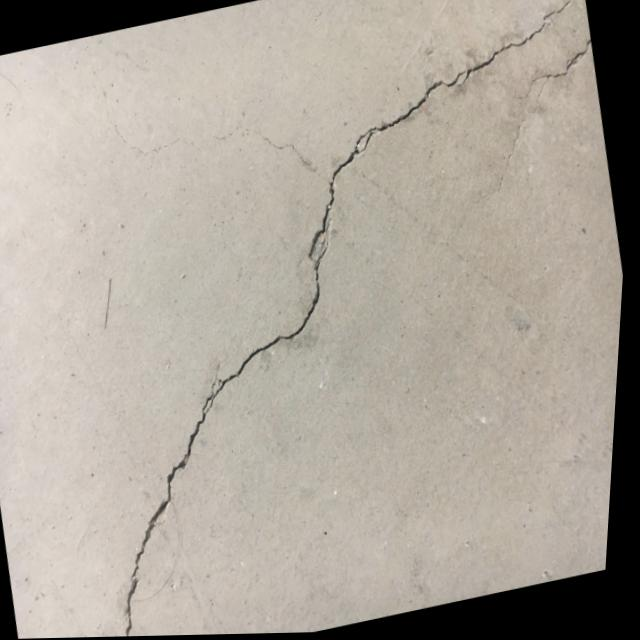Crack: (52, 410, 258, 639), (278, 66, 497, 265), (182, 249, 359, 426), (442, 0, 596, 93), (509, 35, 601, 107)
